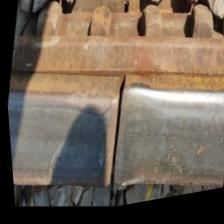person: (11, 32, 215, 223)
